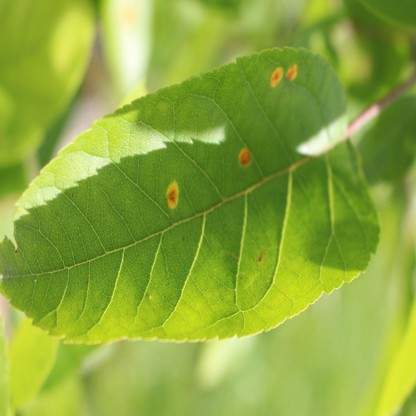rust: (167, 180, 179, 209), (269, 66, 283, 86), (286, 65, 298, 83), (239, 149, 249, 167)
